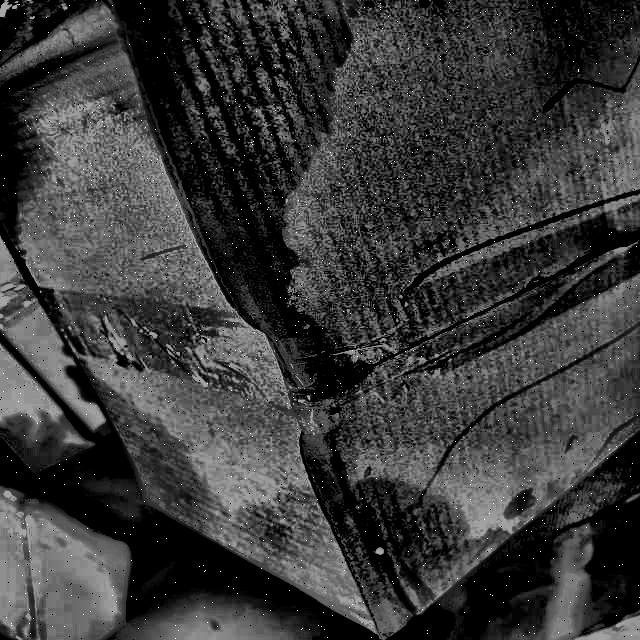box: (0, 1, 639, 640)
wet: (137, 0, 339, 385), (325, 459, 511, 635)
